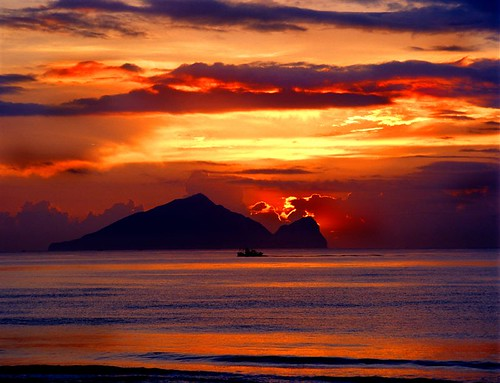turtleIsland: (48, 194, 329, 251)
